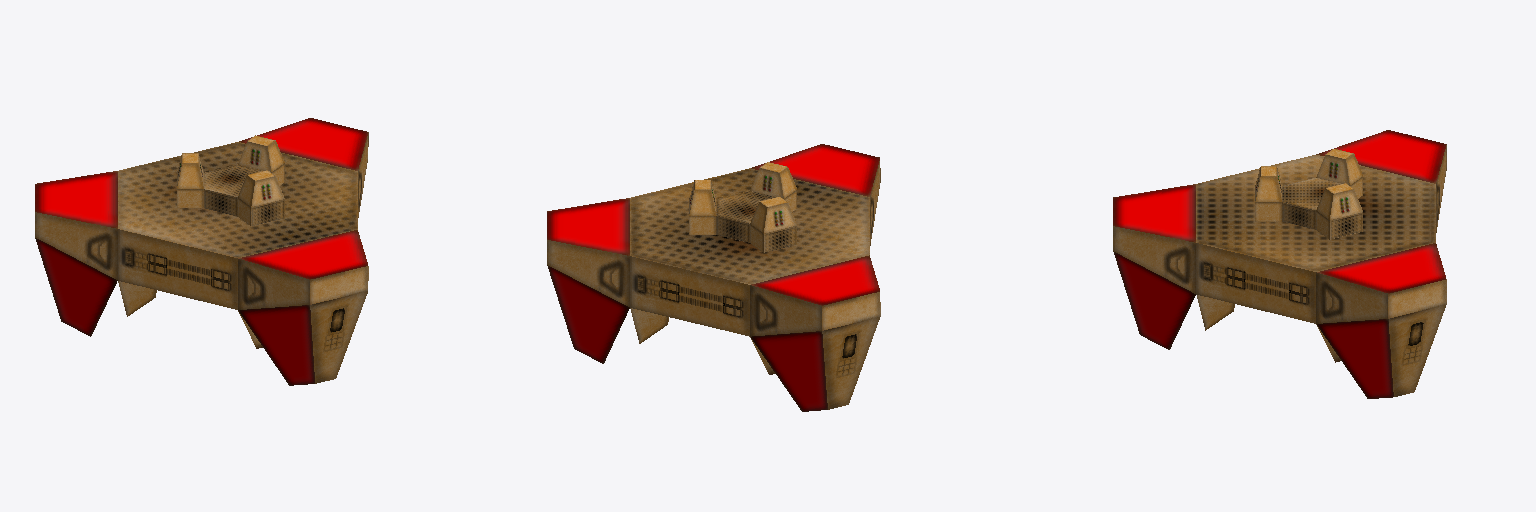
3 views of the same model, side by side, from view 1: azimuth 30°, elevation 25°; view 2: azimuth 150°, elevation 25°; view 3: azimuth 270°, elevation 25° (orthographic).
Parts seen in each view (by area): view 1: cylinder4_sep4, cylinder4; view 2: cylinder4_sep4, cylinder4; view 3: cylinder4_sep4, cylinder4.
Part boxes in pixels (bbox=[...]): cylinder4_sep4: bbox=[35, 118, 368, 385]; cylinder4: bbox=[177, 135, 284, 225]; cylinder4_sep4: bbox=[547, 144, 880, 411]; cylinder4: bbox=[689, 162, 796, 252]; cylinder4_sep4: bbox=[1113, 130, 1446, 398]; cylinder4: bbox=[1255, 149, 1362, 239].
Size of the model in its own units: 2.78 by 1.35 by 2.41.
2 materials, 1 textured.